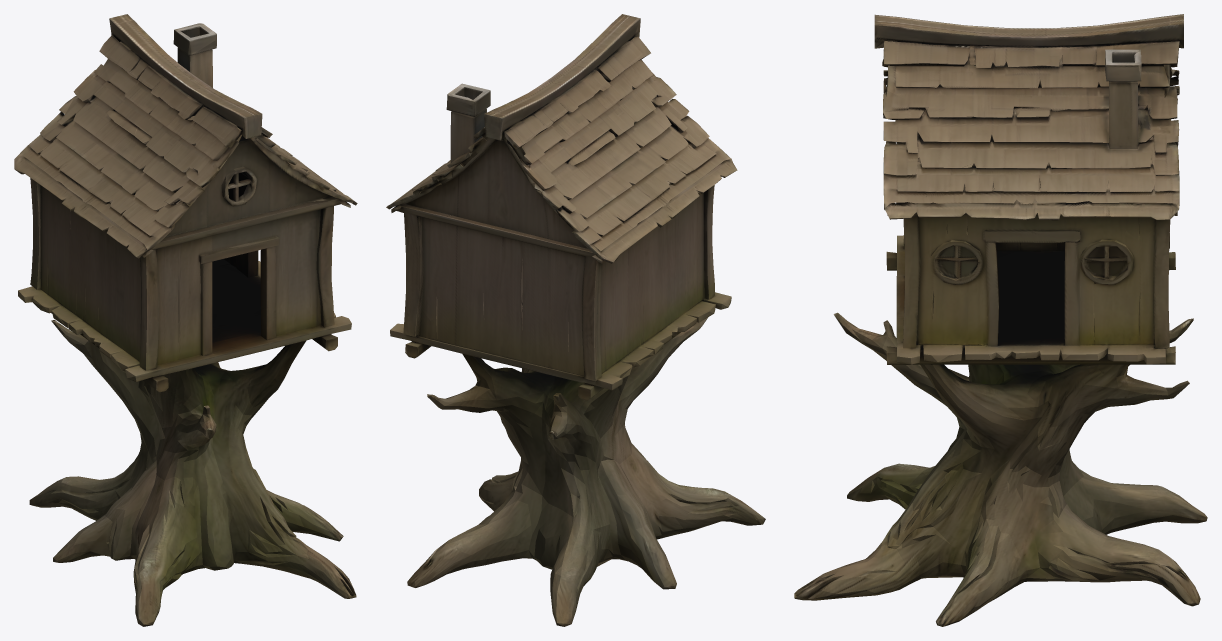
Rendered from base_basic_pbr.fbx.
The picture shows the model from 3 angles, left to right: view 1: azimuth 30°, elevation 25°; view 2: azimuth 150°, elevation 25°; view 3: azimuth 270°, elevation 25°; orthographic projection. The views are drawn at different scales.
Visible parts, largest first — view 1: model; view 2: model; view 3: model.
Boxes of the visible parts, bbox=[...] form: model: bbox=[14, 14, 357, 626]; model: bbox=[386, 14, 765, 626]; model: bbox=[794, 14, 1207, 626].
Bounding box in the file's own units: 89.16 × 168 × 116.
1 material, 1 textured.
